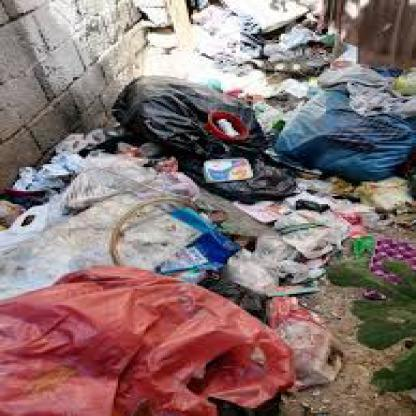Garbage: (17, 256, 245, 414), (86, 144, 260, 270), (274, 80, 414, 208), (126, 58, 288, 157), (150, 193, 296, 294), (206, 9, 330, 96)
